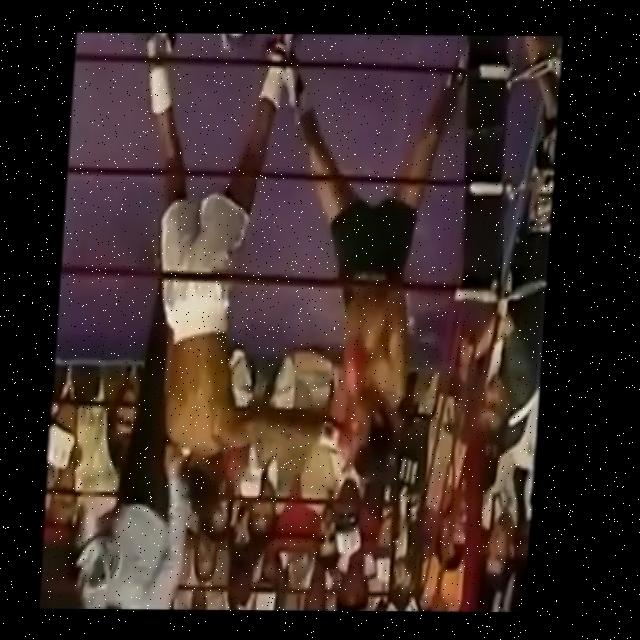Jab: (169, 268, 393, 489)
